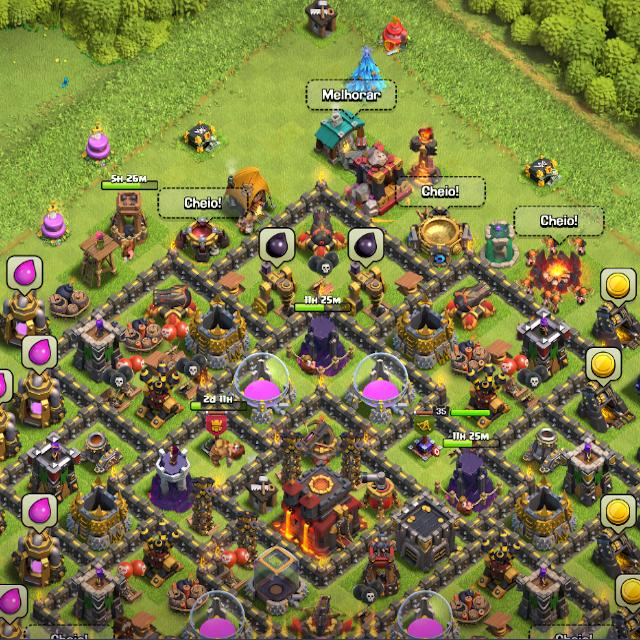Elixir: (6, 254, 44, 296), (21, 334, 58, 376), (21, 493, 58, 535), (0, 584, 28, 625), (0, 369, 14, 406)
ElixirNegro: (258, 227, 295, 269), (348, 227, 384, 269)
coin: (599, 494, 637, 535), (585, 346, 622, 388), (600, 267, 637, 308), (614, 574, 640, 614)
